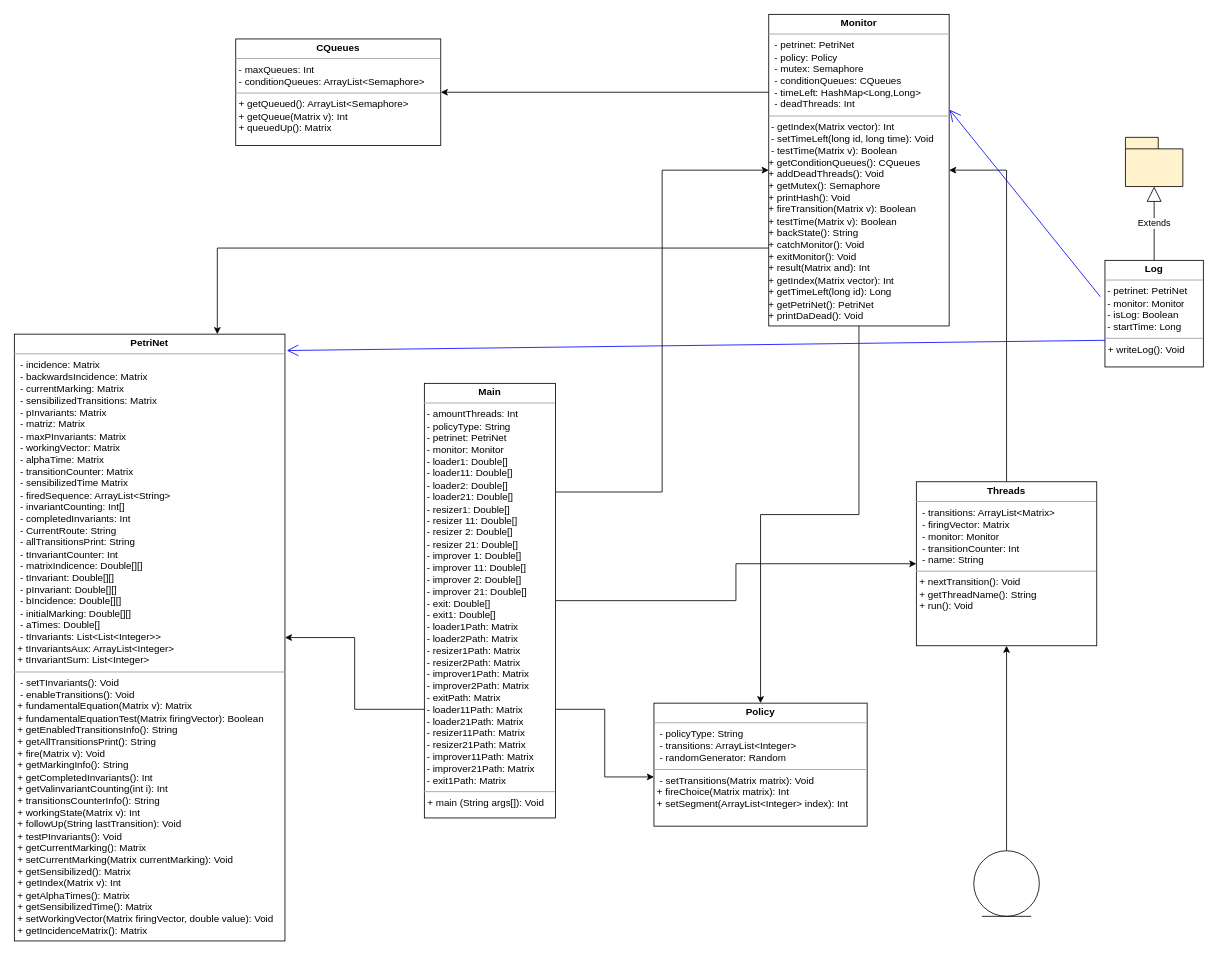
This 1218x955 diagram has some shape labels left out. Each missing label, with the centre of its shape:
"RUNNABLE" belongs at (1006,883).
"Threads" belongs at (1154,162).
